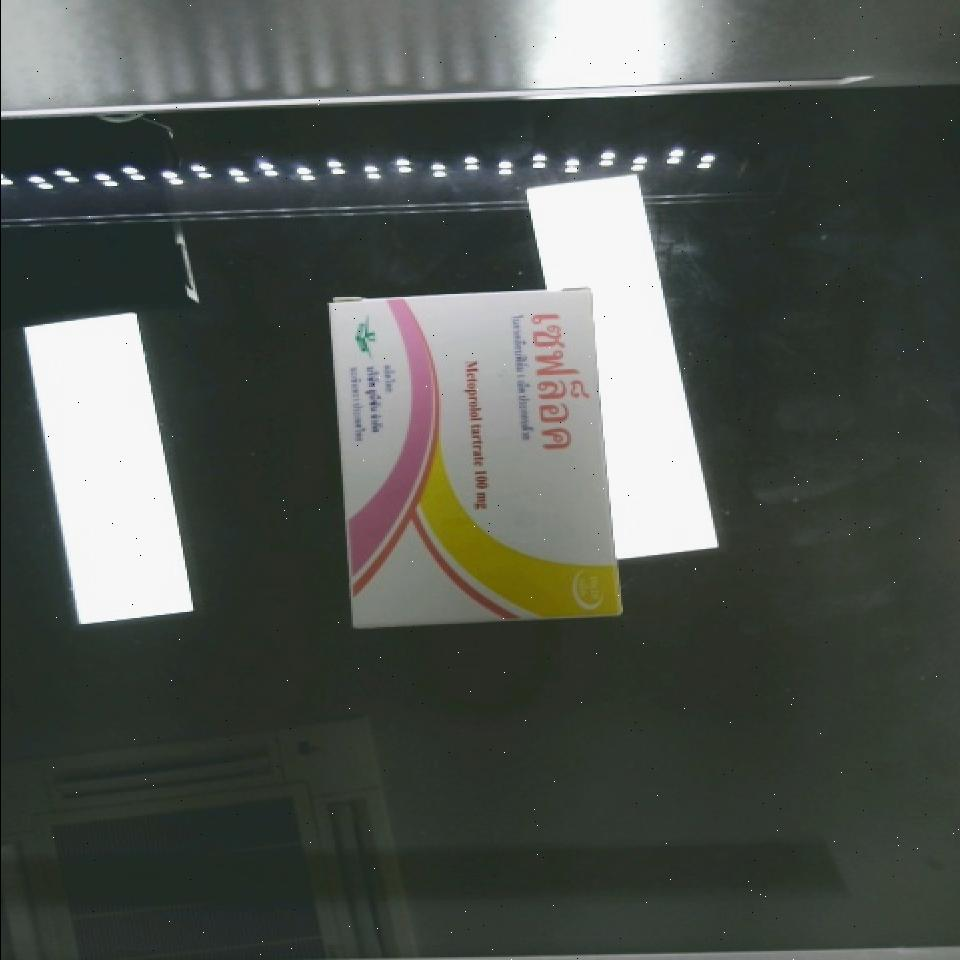medicine_box: (325, 276, 620, 641)
medicine_label_obb: (516, 292, 603, 468)
